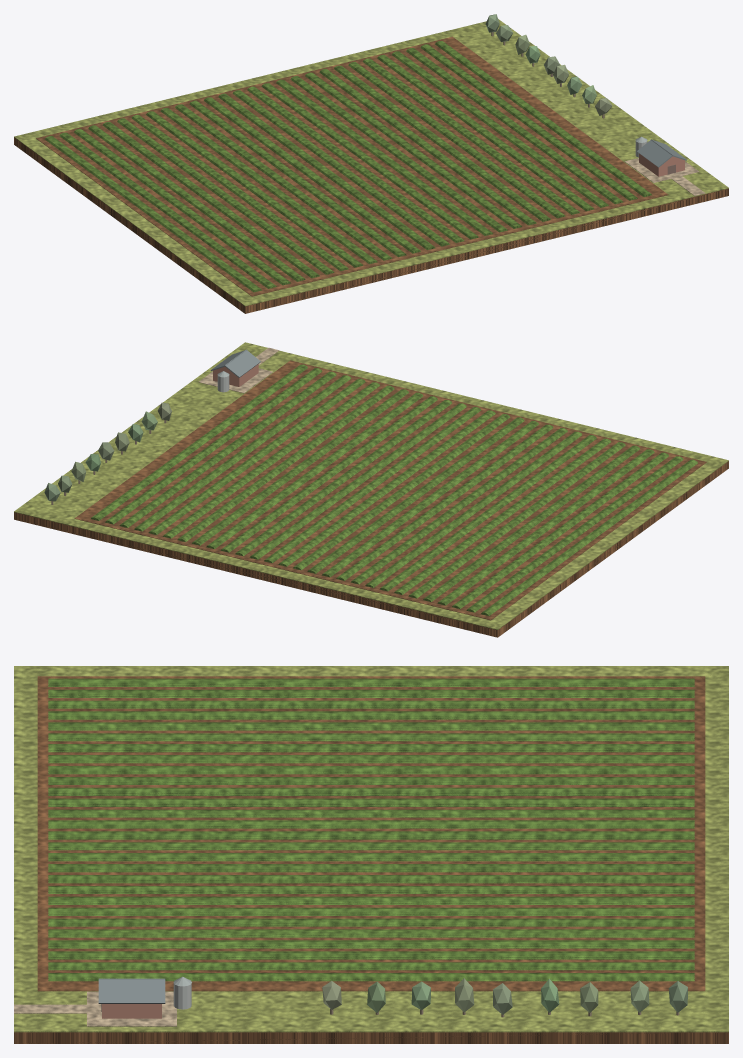
The model's file is idaho-farm.glb.
3 renders of one model, top to bottom at view 1: azimuth 30°, elevation 25°; view 2: azimuth 150°, elevation 25°; view 3: azimuth 270°, elevation 25°, orthographic. The views are drawn at different scales.
Parts seen in each view (by area): view 1: Cultivated soil, Grassy margin, Earth, Crop row 13, Crop row 11, Crop row 8, Crop row 25, Crop row 22, Crop row 19, Crop row 17, Crop row 15, Crop row 6 (+22 smaller); view 2: Cultivated soil, Grassy margin, Earth, Crop row 22, Crop row 28, Crop row 20, Crop row 17, Crop row 11, Crop row 9, Crop row 7, Crop row 2, Crop row 27 (+21 smaller); view 3: Cultivated soil, Grassy margin, Earth, Crop row 27, Crop row 26, Crop row 25, Crop row 24, Crop row 23, Crop row 22, Crop row 21, Crop row 19, Crop row 18 (+23 smaller).
Part boxes in pixels (x1=…): Cultivated soil: x1=36, y1=36, x2=668, y2=296; Grassy margin: x1=14, y1=19, x2=728, y2=306; Earth: x1=14, y1=137, x2=728, y2=313; Crop row 13: x1=218, y1=93, x2=435, y2=249; Crop row 11: x1=189, y1=100, x2=406, y2=257; Crop row 8: x1=146, y1=111, x2=363, y2=267; Crop row 25: x1=391, y1=51, x2=608, y2=207; Crop row 22: x1=348, y1=62, x2=565, y2=218; Crop row 19: x1=305, y1=72, x2=522, y2=228; Crop row 17: x1=276, y1=79, x2=493, y2=235; Crop row 15: x1=247, y1=86, x2=464, y2=242; Crop row 6: x1=117, y1=118, x2=334, y2=274; Cultivated soil: x1=74, y1=360, x2=706, y2=620; Grassy margin: x1=14, y1=342, x2=728, y2=629; Earth: x1=14, y1=461, x2=728, y2=637; Crop row 22: x1=177, y1=385, x2=394, y2=541; Crop row 28: x1=90, y1=364, x2=307, y2=520; Crop row 20: x1=206, y1=392, x2=423, y2=548; Crop row 17: x1=249, y1=403, x2=466, y2=559; Crop row 11: x1=336, y1=424, x2=553, y2=580; Crop row 9: x1=365, y1=431, x2=582, y2=587; Crop row 7: x1=394, y1=438, x2=611, y2=594; Crop row 2: x1=466, y1=456, x2=683, y2=612; Crop row 27: x1=105, y1=368, x2=322, y2=524; Cultivated soil: x1=37, y1=676, x2=705, y2=991; Grassy margin: x1=14, y1=666, x2=728, y2=1032; Earth: x1=14, y1=1032, x2=728, y2=1043; Crop row 27: x1=48, y1=962, x2=694, y2=970; Crop row 26: x1=48, y1=951, x2=694, y2=959; Crop row 25: x1=48, y1=940, x2=694, y2=948; Crop row 24: x1=48, y1=929, x2=694, y2=937; Crop row 23: x1=48, y1=918, x2=694, y2=926; Crop row 22: x1=48, y1=907, x2=694, y2=915; Crop row 21: x1=48, y1=896, x2=694, y2=904; Crop row 19: x1=48, y1=875, x2=694, y2=883; Crop row 18: x1=48, y1=864, x2=694, y2=872.
Size of the model in its own units: 403 by 23.55 by 333.
4 materials, 4 textured.
